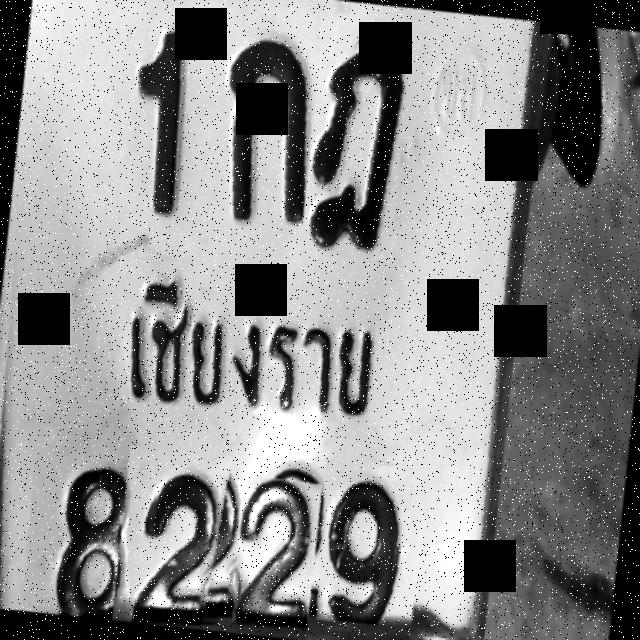letters: (299, 36, 429, 264), (202, 18, 324, 244), (114, 9, 227, 240), (112, 444, 231, 630), (309, 458, 427, 629), (19, 454, 136, 621), (225, 473, 322, 640)
license-plate: (0, 0, 548, 640)
province: (71, 251, 398, 427)
